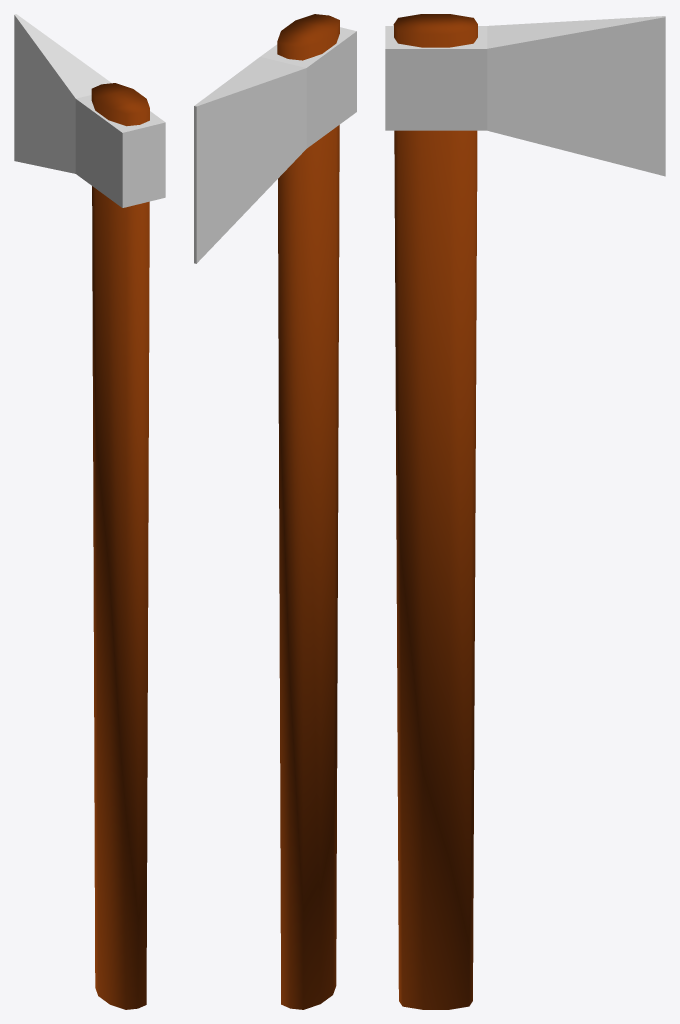
File: machado.glb
3 views of the same model, side by side, from view 1: azimuth 30°, elevation 25°; view 2: azimuth 150°, elevation 25°; view 3: azimuth 270°, elevation 25° (orthographic). The views are drawn at different scales.
Parts seen in each view (by area): view 1: axe; view 2: axe; view 3: axe.
Boxes of the visible parts, left/top/right/bottom form: axe: left=14, top=14, right=165, bottom=1009; axe: left=194, top=14, right=356, bottom=1009; axe: left=385, top=14, right=665, bottom=1009.
Size of the model in its own units: 0.0191 by 0.3818 by 0.0985.
